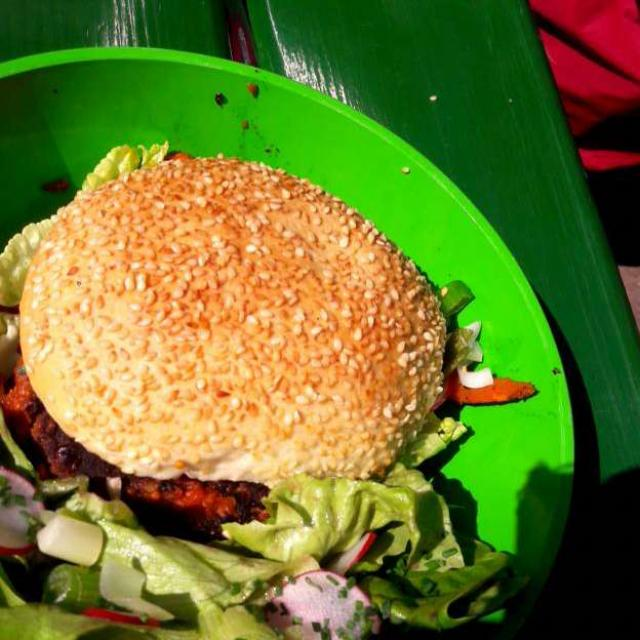bread-meat-substitute-lettuce-sauce: (4, 162, 454, 560)
